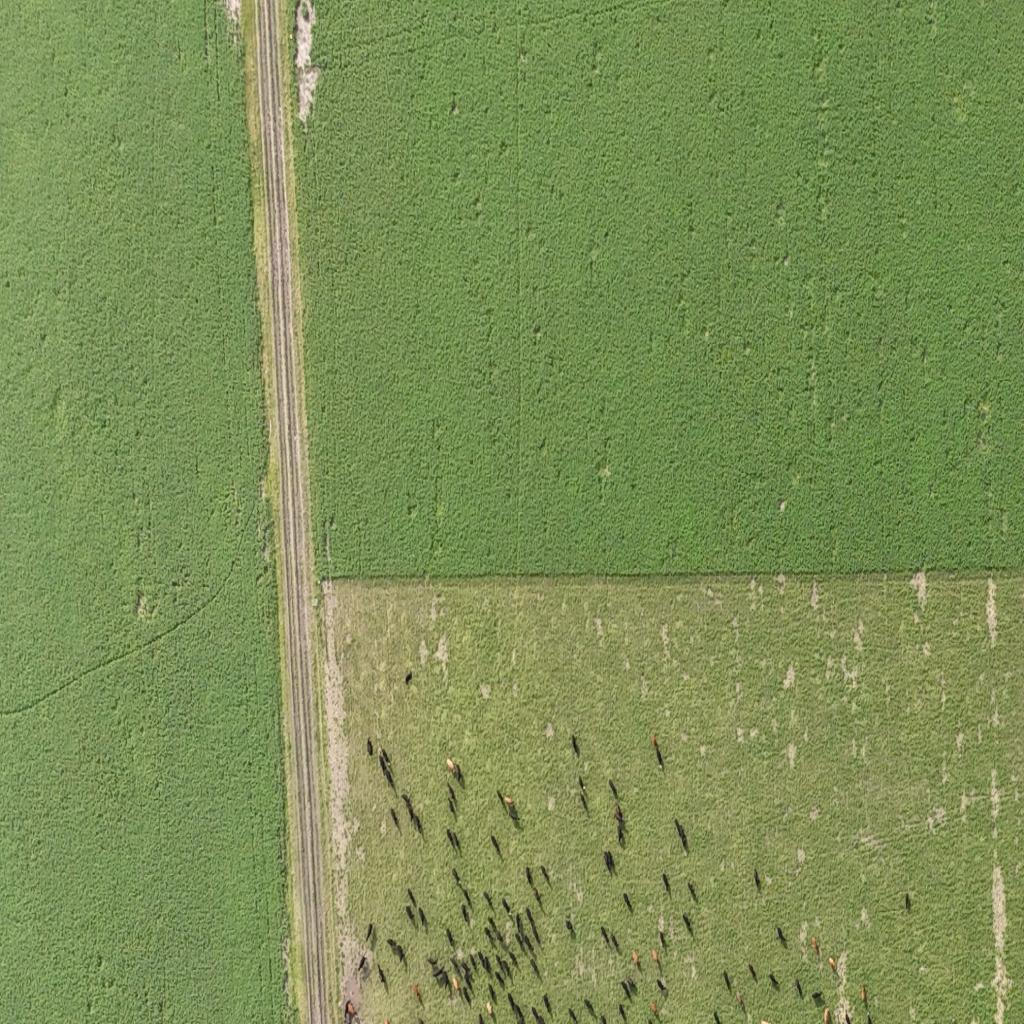cow: (380, 752, 395, 788), (508, 994, 526, 1024), (674, 818, 688, 854), (499, 932, 514, 965), (504, 946, 519, 978), (413, 810, 427, 843), (654, 736, 667, 770), (387, 938, 404, 964), (816, 944, 830, 974), (496, 959, 510, 988), (460, 879, 473, 909), (488, 982, 503, 1008), (527, 956, 541, 982), (344, 998, 358, 1023), (621, 978, 636, 1001), (506, 806, 524, 824), (516, 912, 526, 944), (404, 668, 416, 694), (446, 781, 460, 803), (492, 920, 506, 942), (500, 792, 518, 809), (494, 784, 506, 809), (682, 912, 694, 937), (612, 805, 627, 825), (490, 834, 502, 858), (532, 884, 544, 908), (481, 954, 493, 978), (454, 761, 466, 785), (482, 926, 496, 946), (407, 888, 418, 913), (576, 771, 589, 792), (528, 926, 542, 945), (522, 905, 536, 924), (540, 864, 552, 886), (445, 926, 456, 950), (584, 997, 596, 1019), (483, 890, 495, 912), (526, 934, 538, 956), (378, 964, 388, 990), (609, 777, 620, 800), (614, 826, 628, 844), (531, 1005, 545, 1023), (426, 956, 440, 974), (418, 905, 428, 930), (543, 993, 553, 1018), (461, 903, 471, 928), (903, 887, 913, 912), (406, 904, 417, 926), (514, 930, 525, 952), (381, 746, 391, 770), (624, 892, 634, 916), (600, 925, 610, 949), (451, 974, 461, 998), (571, 733, 580, 759), (366, 922, 375, 948), (501, 896, 512, 917), (687, 880, 697, 903), (610, 930, 620, 953), (768, 972, 780, 991), (656, 977, 668, 996), (390, 806, 399, 831), (662, 872, 671, 897), (776, 924, 786, 946), (460, 986, 470, 1008), (449, 954, 461, 972), (358, 953, 368, 974), (659, 927, 667, 953), (579, 793, 589, 813), (565, 918, 575, 938), (525, 866, 534, 888), (451, 829, 462, 847), (446, 828, 454, 852), (659, 958, 667, 982), (452, 868, 462, 887), (447, 795, 456, 816), (748, 962, 757, 983), (724, 970, 732, 993), (413, 984, 422, 1004), (812, 990, 824, 1005), (405, 802, 415, 820), (446, 756, 454, 778), (736, 988, 744, 1010), (618, 1003, 627, 1022), (366, 736, 374, 757), (754, 867, 761, 890), (795, 976, 803, 996), (650, 1002, 660, 1018), (568, 1007, 578, 1023), (486, 1000, 494, 1020), (603, 850, 610, 872), (652, 948, 660, 967), (464, 971, 472, 990), (829, 956, 837, 974), (632, 950, 640, 968), (443, 968, 449, 992), (812, 935, 819, 955), (607, 850, 615, 867), (469, 948, 477, 964), (837, 1008, 846, 1022), (462, 959, 471, 972), (844, 1010, 852, 1024), (714, 1010, 722, 1024), (824, 1007, 830, 1023), (861, 984, 866, 1002), (478, 1012, 485, 1024), (600, 1013, 607, 1024), (866, 1013, 872, 1024), (417, 1017, 425, 1024), (647, 1016, 654, 1024), (761, 1018, 770, 1024), (384, 1017, 391, 1024)
